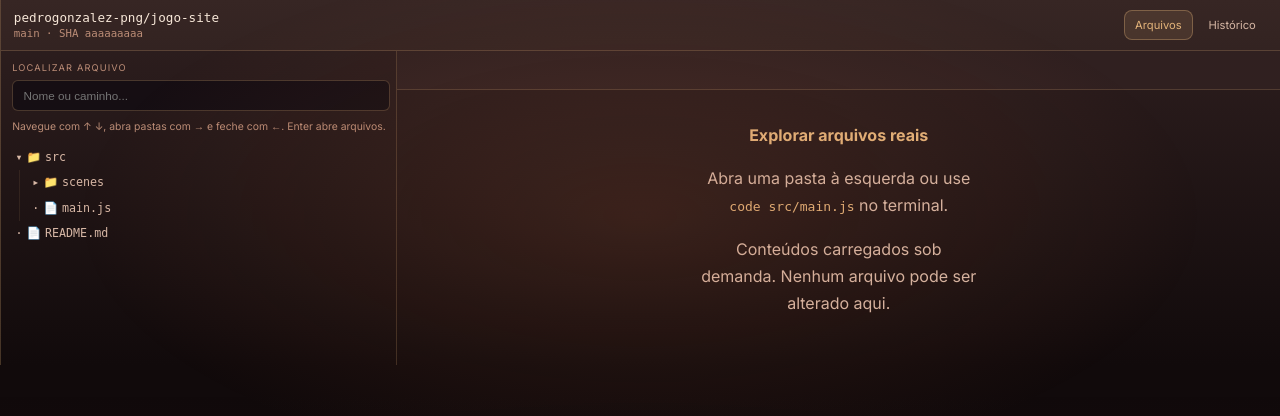
it: readonly GitHub explorer UI › searches by file name and never invents results
Type "GameScene" into the field named "Buscar nome de arquivo". click: (201, 96)
box: 12,80 -> 390,111
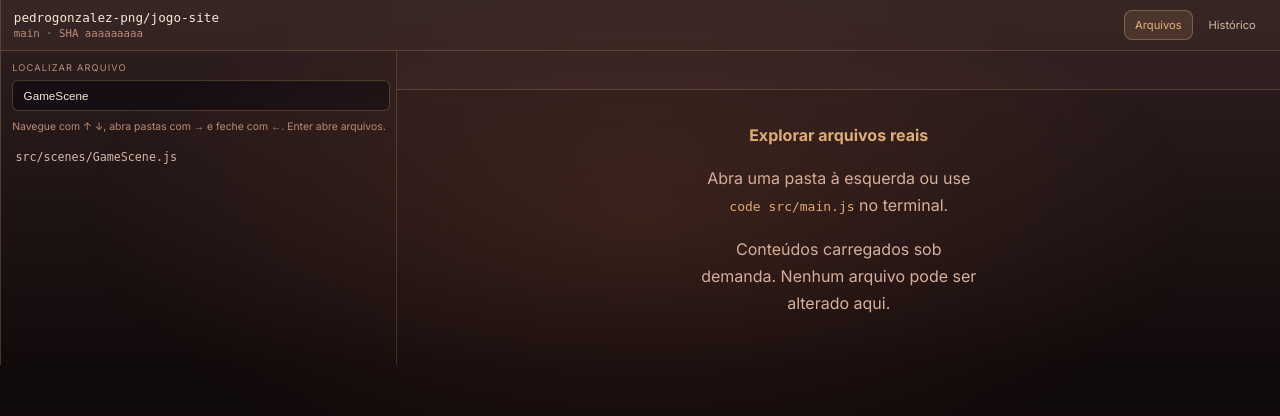
Now the button "src/scenes/GameScene.js" is shown, box 12,145 -> 390,170
Replace the text in the field named "Buscar nome de arquivo" with "does-not-exist". click: (201, 96)
box: 12,80 -> 390,111
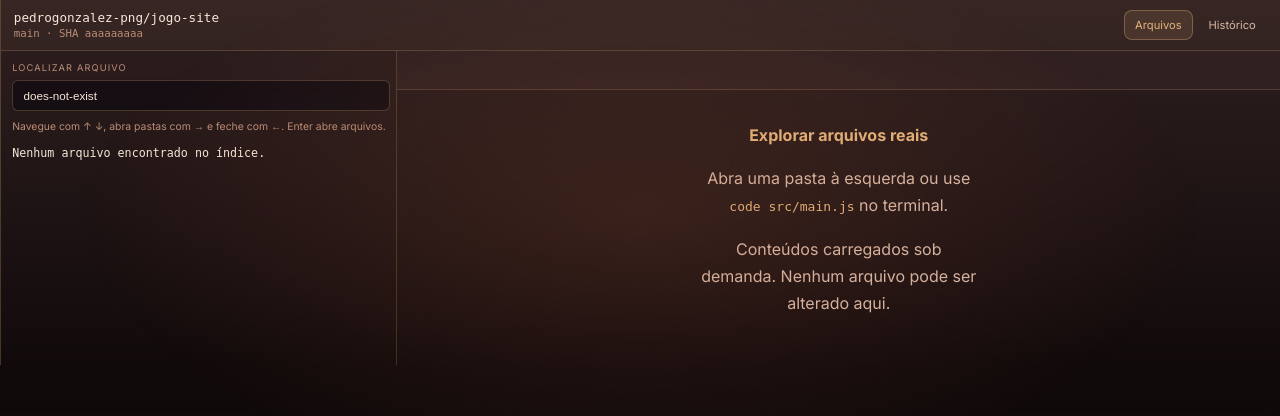
Now the list item "Nenhum arquivo encontrado no índice." is shown, box 12,146 -> 265,160
